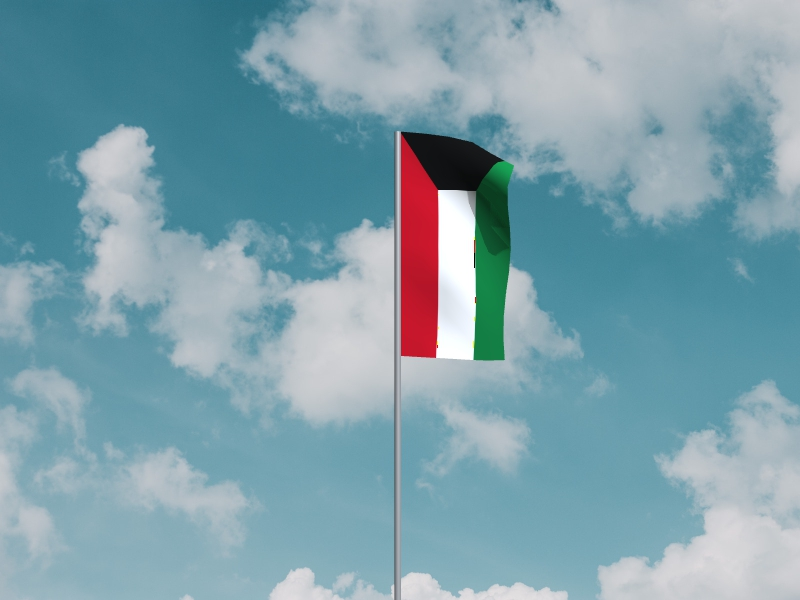kw: (402, 132, 516, 362)
